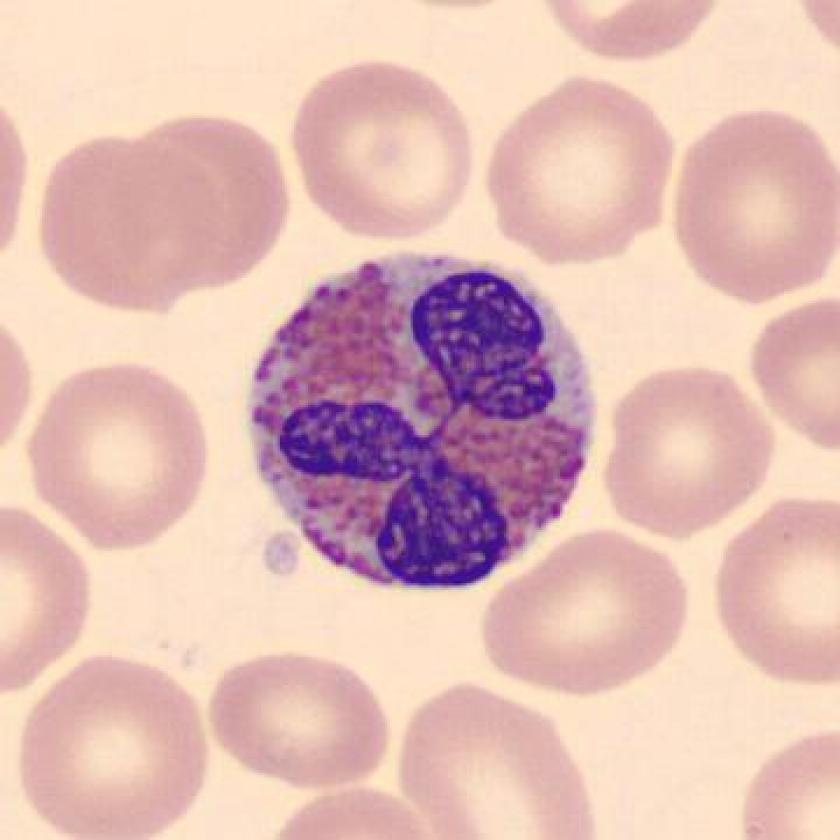eosinophil: (235, 239, 606, 612)
